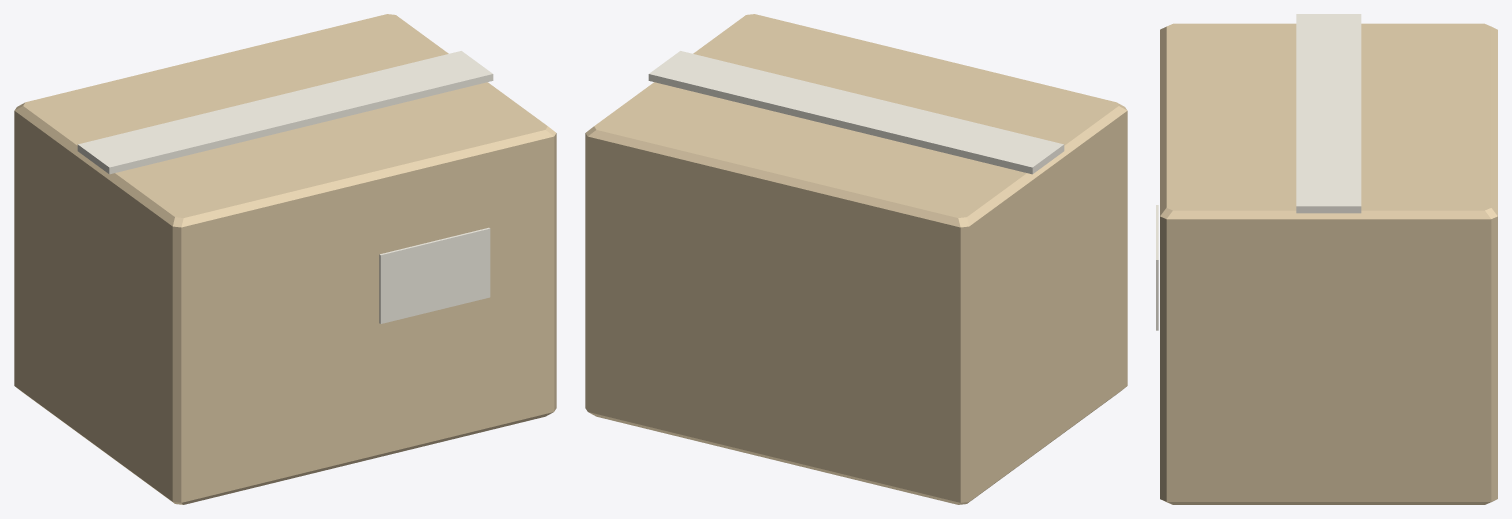
File: lab_box_cardboard.glb
3 views of the same model, side by side, from view 1: azimuth 30°, elevation 25°; view 2: azimuth 150°, elevation 25°; view 3: azimuth 270°, elevation 25° (orthographic). The views are drawn at different scales.
Visible parts, largest first — view 1: lab_box_cardboard; view 2: lab_box_cardboard; view 3: lab_box_cardboard.
Boxes of the visible parts, x1,y1,x2,y2 form: lab_box_cardboard: (14, 14, 556, 504); lab_box_cardboard: (585, 14, 1127, 504); lab_box_cardboard: (1156, 14, 1497, 504).
Size of the model in its own units: 0.7 by 0.512 by 0.526.
